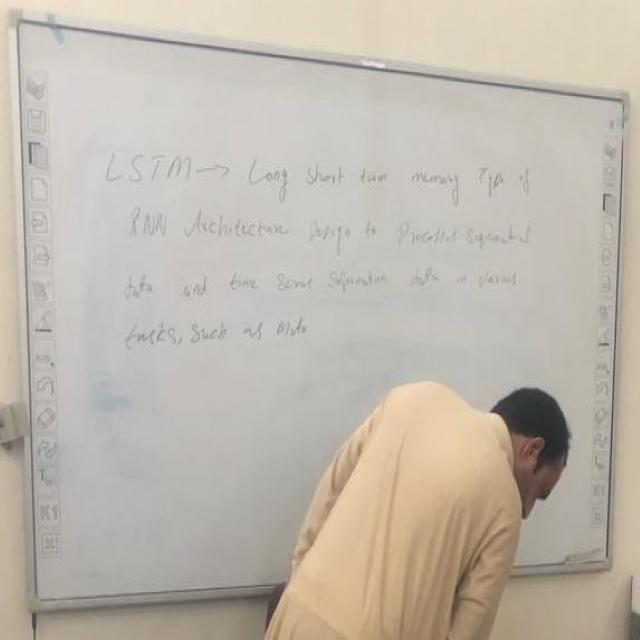Instructor: (306, 338, 570, 619)
White-board: (17, 17, 627, 616)
